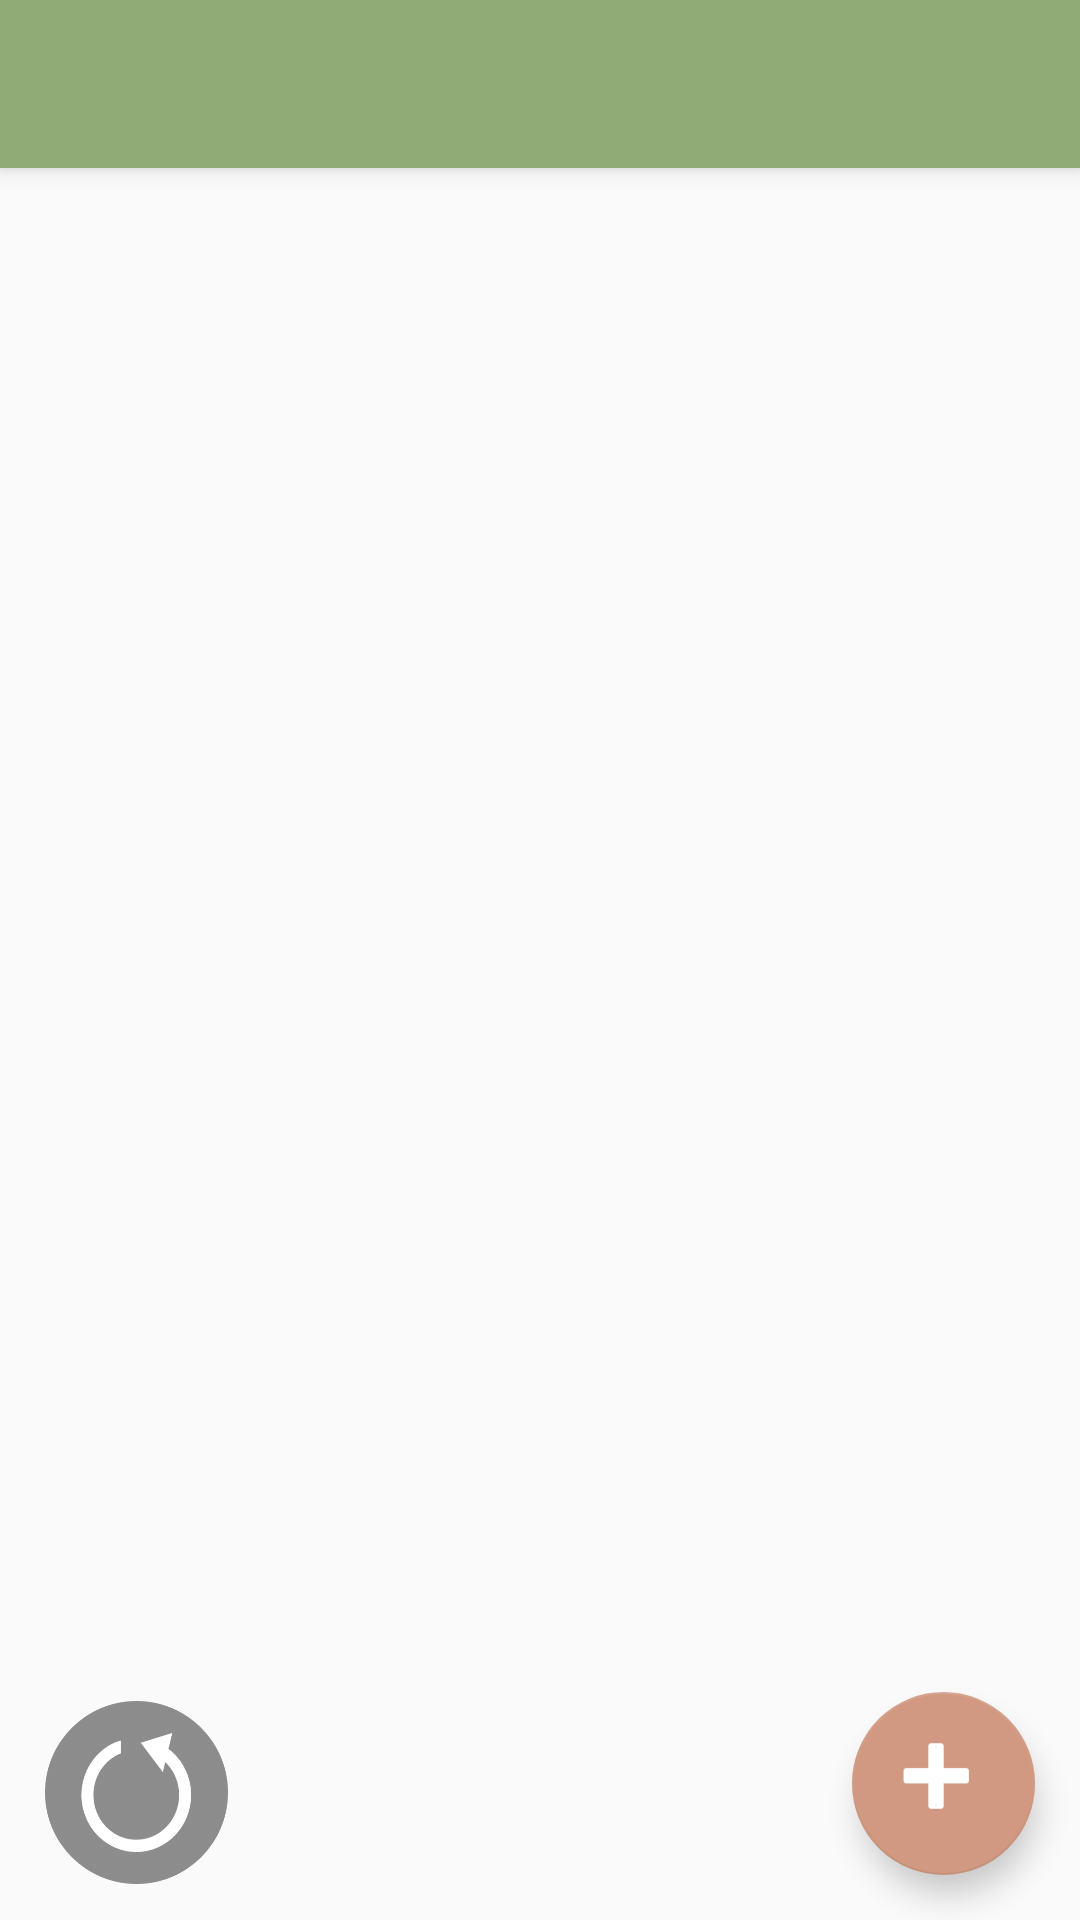

Icon bounding boxes for this 1080px x 1920px phone screenshot, format bbox=(x1, y1, x2, y2):
fab: bbox=(852, 1692, 1035, 1875)
